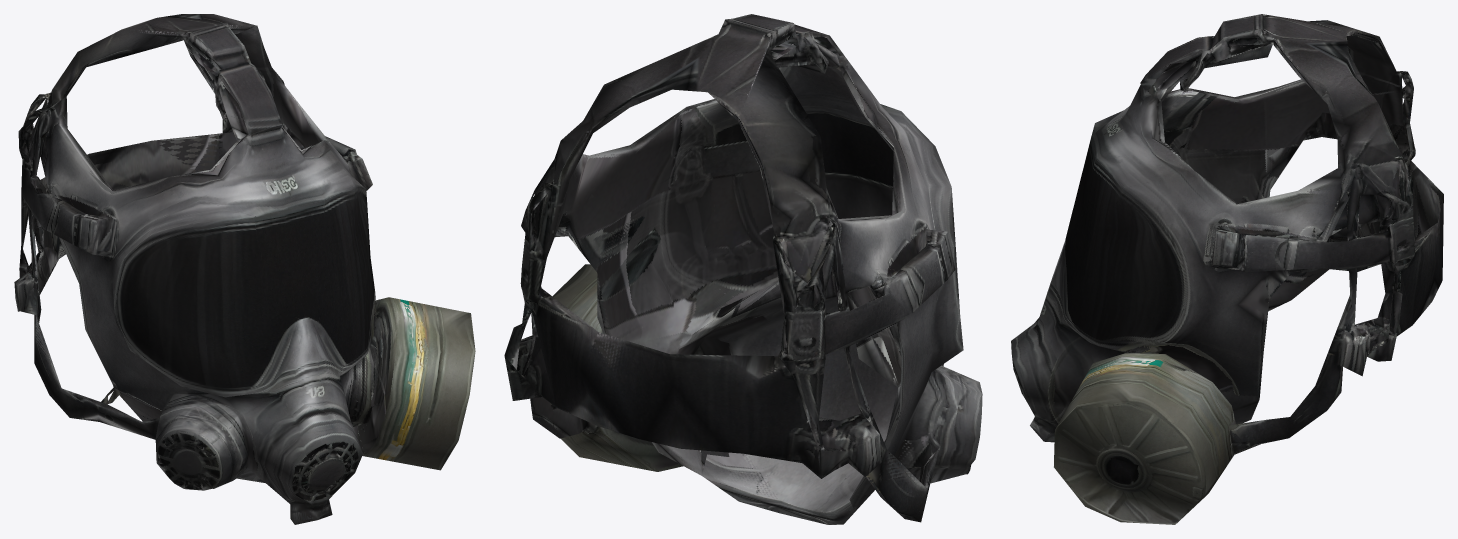
File: Black Gas Mask.fbx
The picture shows the model from 3 angles, left to right: view 1: azimuth 30°, elevation 25°; view 2: azimuth 150°, elevation 25°; view 3: azimuth 270°, elevation 25°; orthographic projection. The views are drawn at different scales.
Visible parts, largest first — view 1: texture_mapping; view 2: texture_mapping; view 3: texture_mapping.
Boxes of the visible parts, <box> form: texture_mapping: <box>14,14,475,524</box>; texture_mapping: <box>504,14,982,524</box>; texture_mapping: <box>1011,14,1443,524</box>.
Bounding box in the file's own units: 0.8709 × 0.9164 × 0.9929.
1 material, 1 textured.
